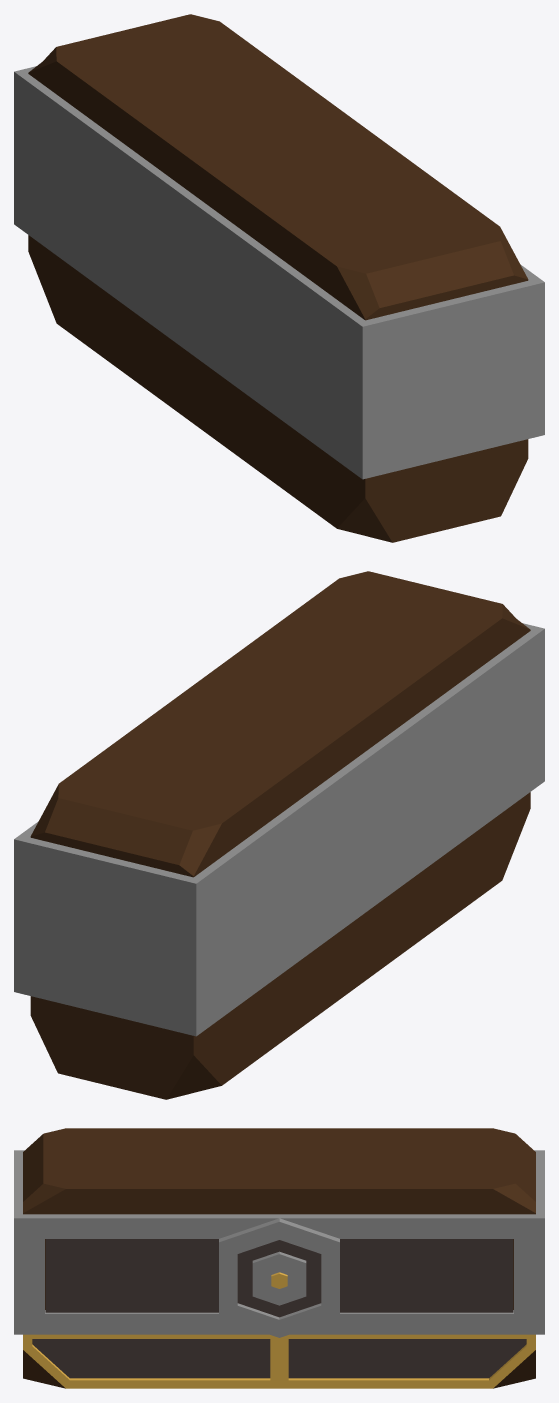
Rendered from radio.fbx.
The picture shows the model from 3 angles, top to bottom: view 1: azimuth 30°, elevation 25°; view 2: azimuth 150°, elevation 25°; view 3: azimuth 270°, elevation 25°; orthographic projection. The views are drawn at different scales.
Parts seen in each view (by area): view 1: Cube.001; view 2: Cube.001; view 3: Cube.001.
Part boxes in pixels (box(x1,y1,x2,y2)): Cube.001: box(14, 14, 544, 542); Cube.001: box(14, 571, 544, 1099); Cube.001: box(14, 1128, 544, 1388).
Bounding box in the file's own units: 134 × 172 × 414.
